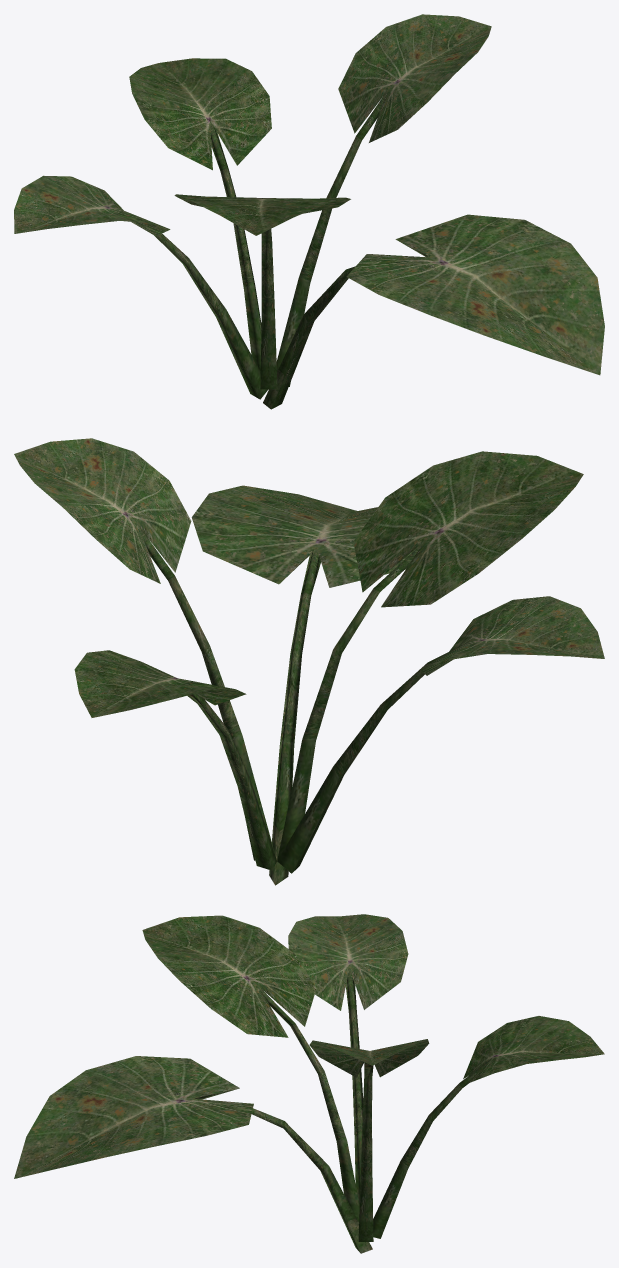
File: leaf_giantpalm_med_l0.fbx
The picture shows the model from 3 angles, top to bottom: view 1: azimuth 30°, elevation 25°; view 2: azimuth 150°, elevation 25°; view 3: azimuth 270°, elevation 25°; orthographic projection. The views are drawn at different scales.
Visible parts, largest first — view 1: mesh_node; view 2: mesh_node; view 3: mesh_node.
Part boxes in pixels (left/top/right/bottom): mesh_node: left=14, top=14, right=604, bottom=409; mesh_node: left=14, top=438, right=604, bottom=885; mesh_node: left=14, top=914, right=604, bottom=1253.
Bounding box in the file's own units: 2.97 × 1.86 × 3.49.
